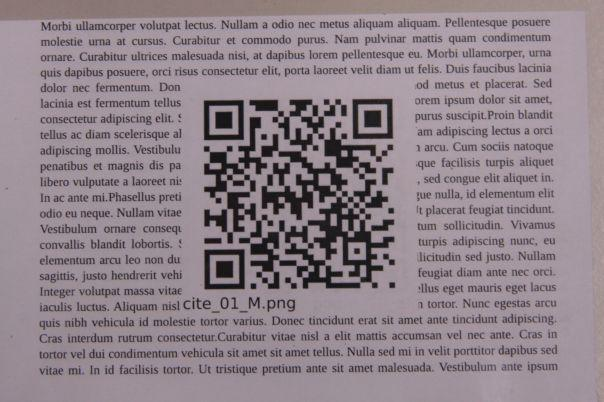Finder pattern: (198, 96, 248, 143), (201, 246, 249, 293), (349, 97, 395, 142)
